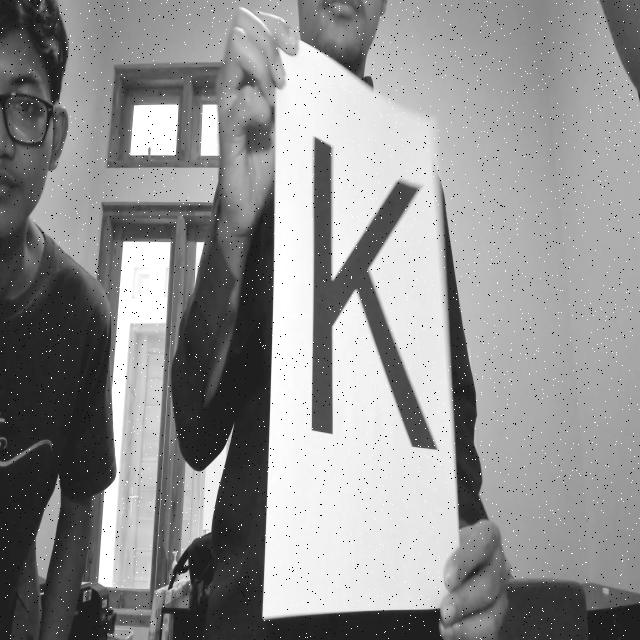k: (292, 98, 449, 498)
